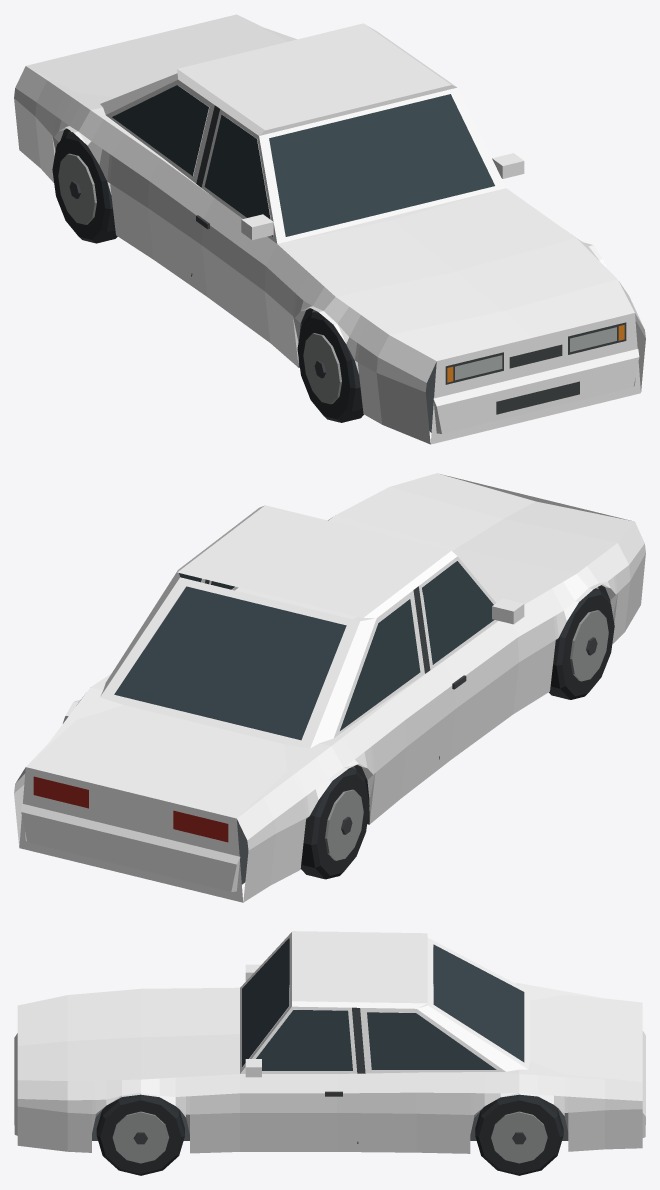
Rendered from garrison_highline.glb.
3 renders of one model, top to bottom at view 1: azimuth 30°, elevation 25°; view 2: azimuth 150°, elevation 25°; view 3: azimuth 270°, elevation 25°, orthographic. The views are drawn at different scales.
Visible parts, largest first — view 1: garrison_highline; view 2: garrison_highline; view 3: garrison_highline.
Part boxes in pixels (x1,y1,x2,y2): garrison_highline: (14,14,645,444); garrison_highline: (14,473,645,902); garrison_highline: (14,931,645,1175).
Bounding box in the file's own units: 1.78 × 1.29 × 4.59.
Materials: 8 (1 with a texture image).
